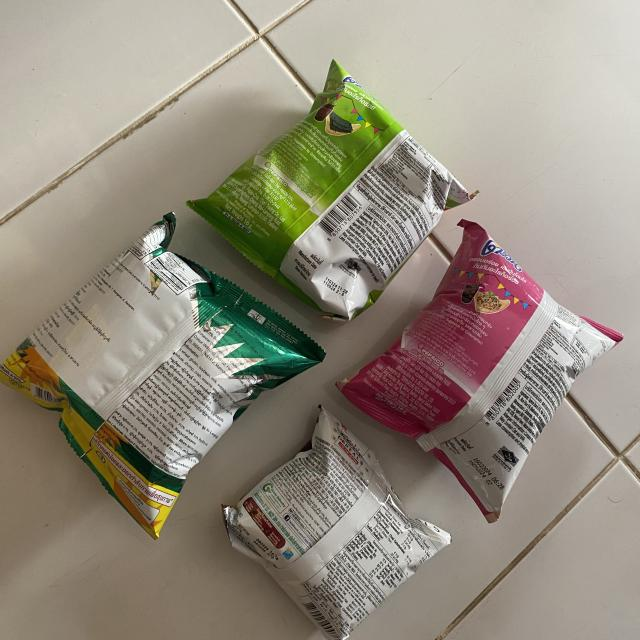plastik: (0, 212, 325, 539), (338, 220, 622, 522), (188, 60, 474, 320), (222, 408, 451, 640)
